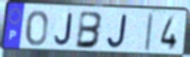4: (159, 15, 179, 52)
B: (74, 10, 105, 50)
I: (144, 12, 155, 53)
J: (106, 13, 129, 50), (53, 12, 74, 47)
O: (25, 9, 49, 47)
